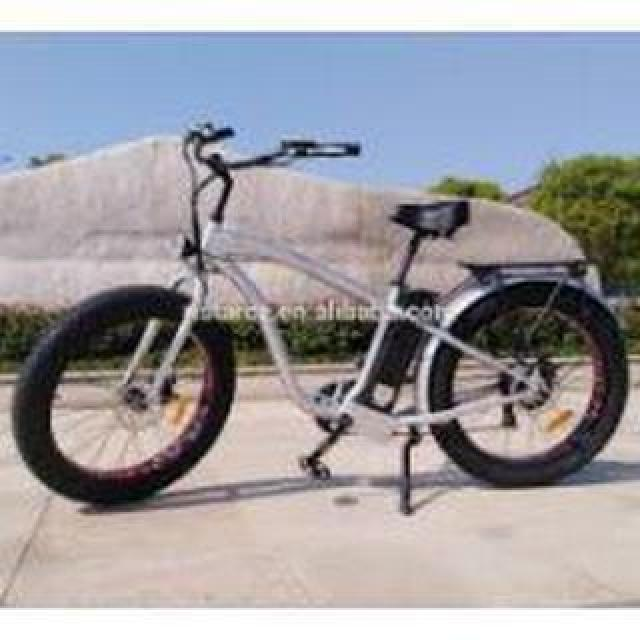Person: (10, 119, 630, 515)
